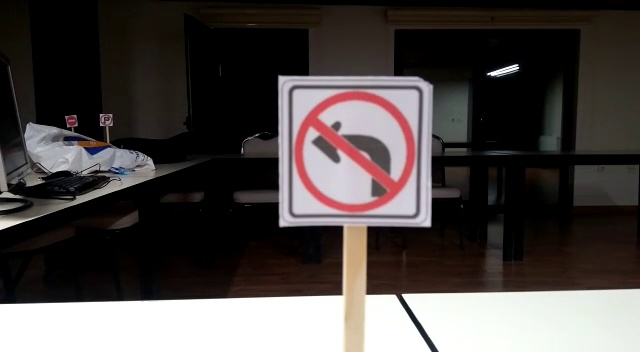sola_donulmez: (282, 77, 428, 223)
